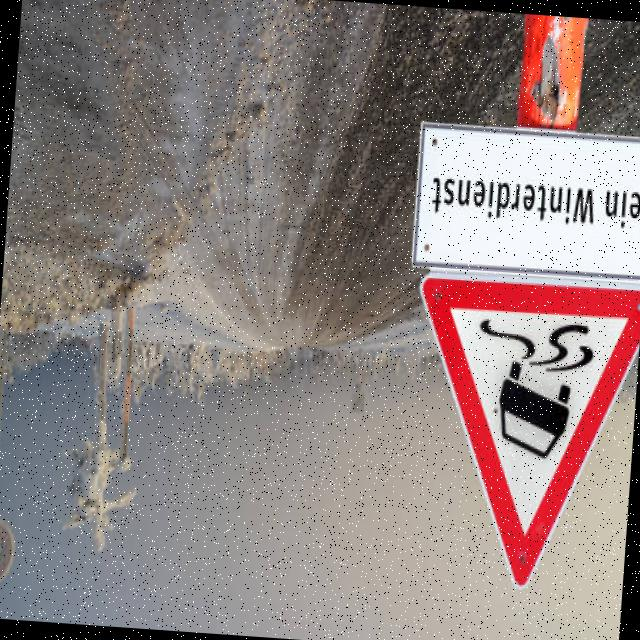road_slippery: (386, 262, 640, 603)
